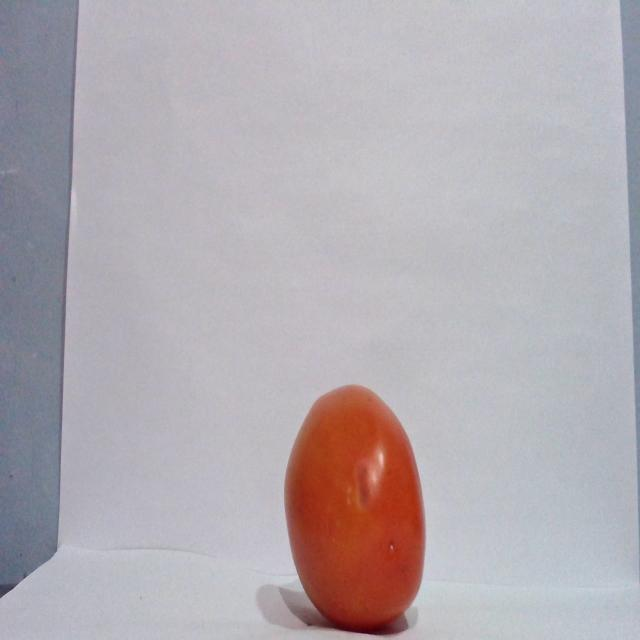Red: (282, 382, 426, 631)
